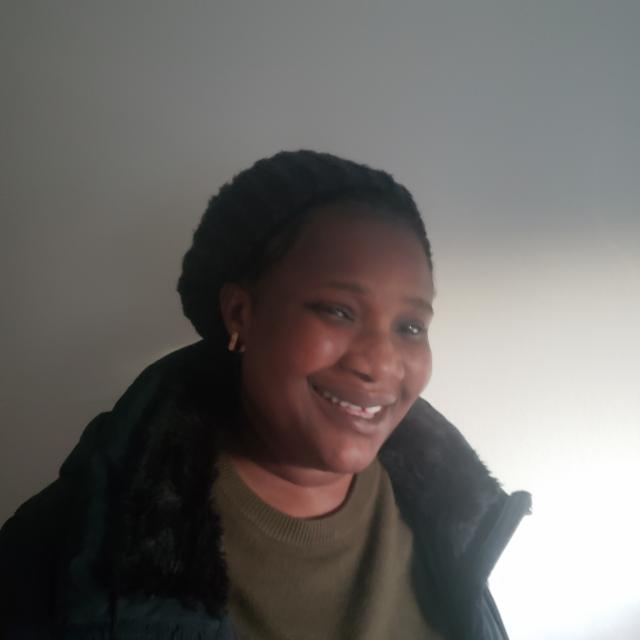happy: (248, 186, 455, 499)
